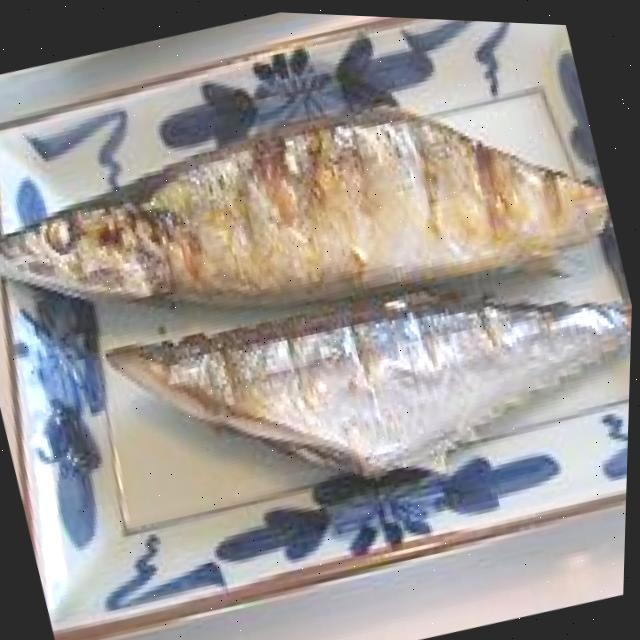熟制海鲜: (0, 44, 639, 554)
